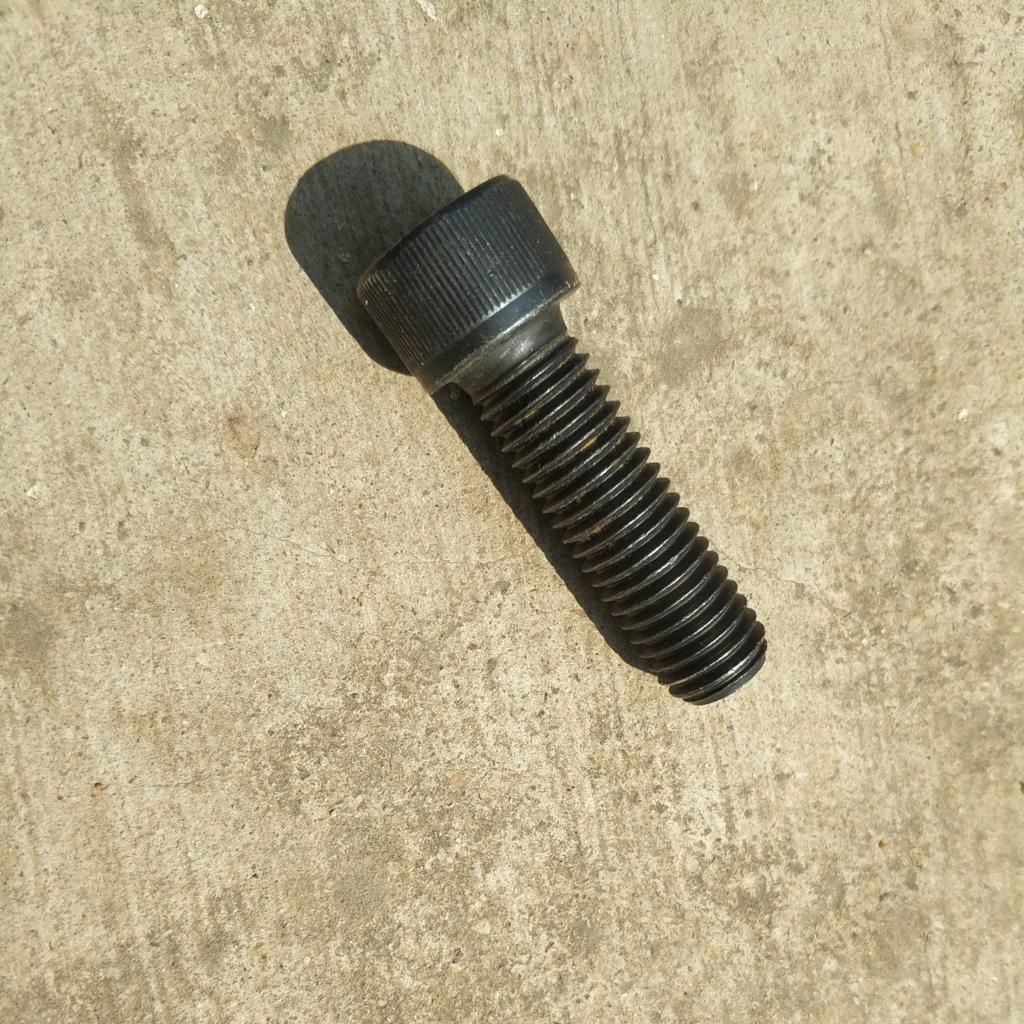screwtype1black: (353, 167, 774, 714)
